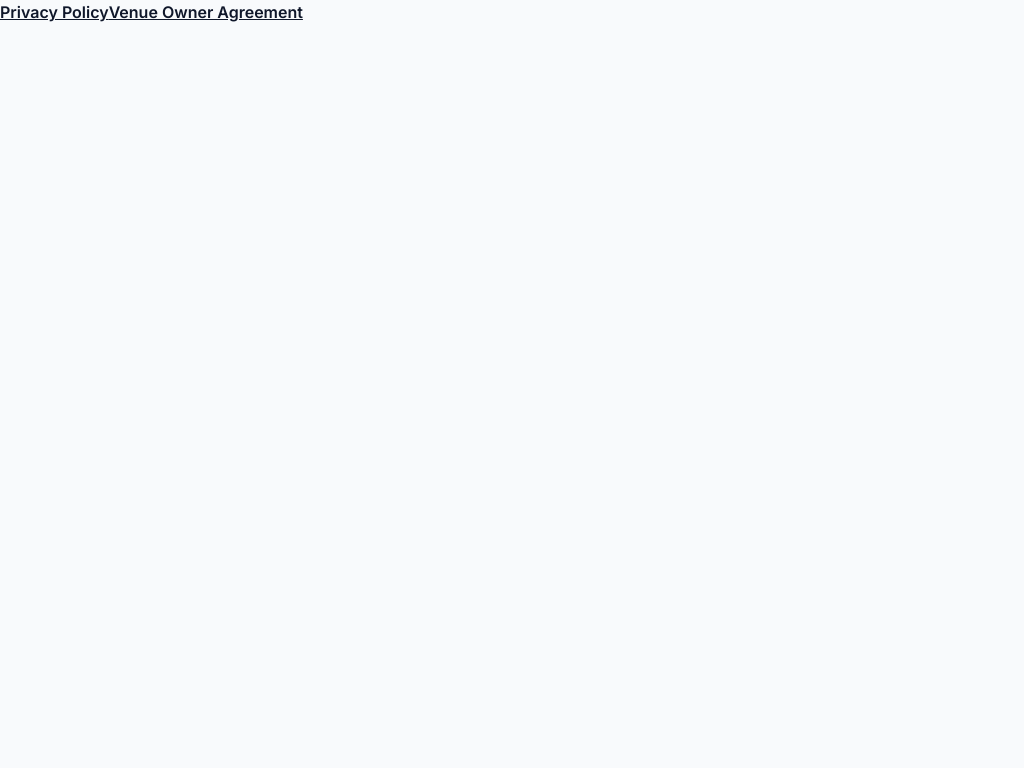
Test: terms and conditions shown in a pop-up › shows the privacy policy and the owner agreement the same way
Step 1. Click the button "Privacy Policy" → (54, 12), box [0,0,109,24]
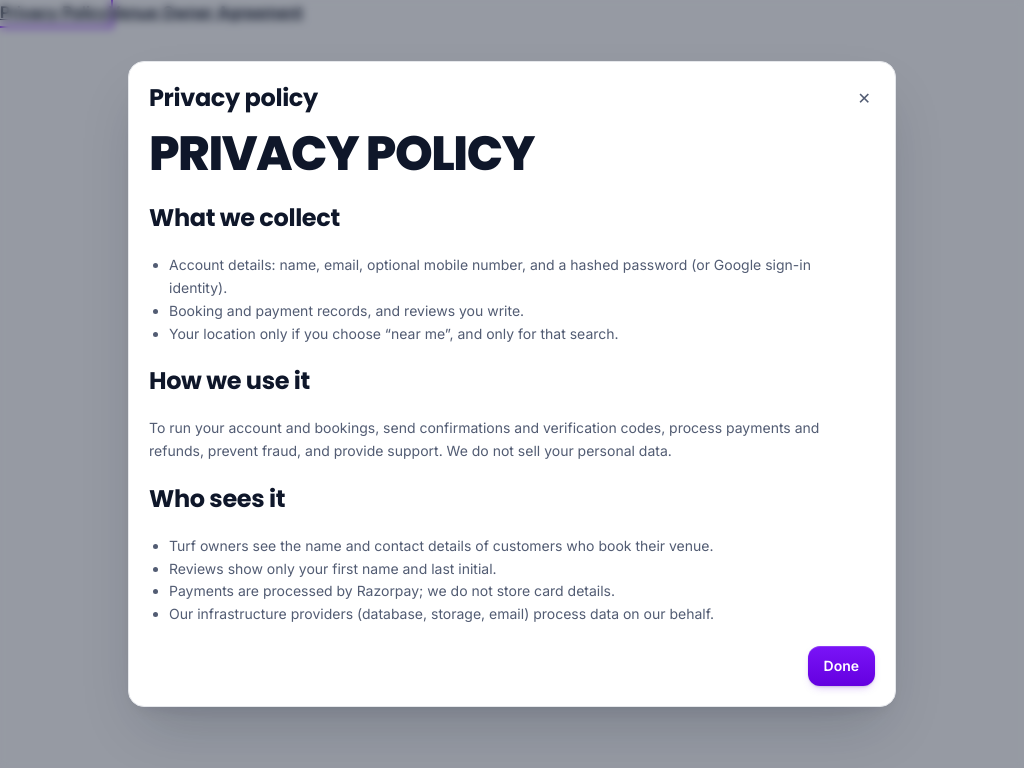
Check: the dialog "Privacy policy" is shown
